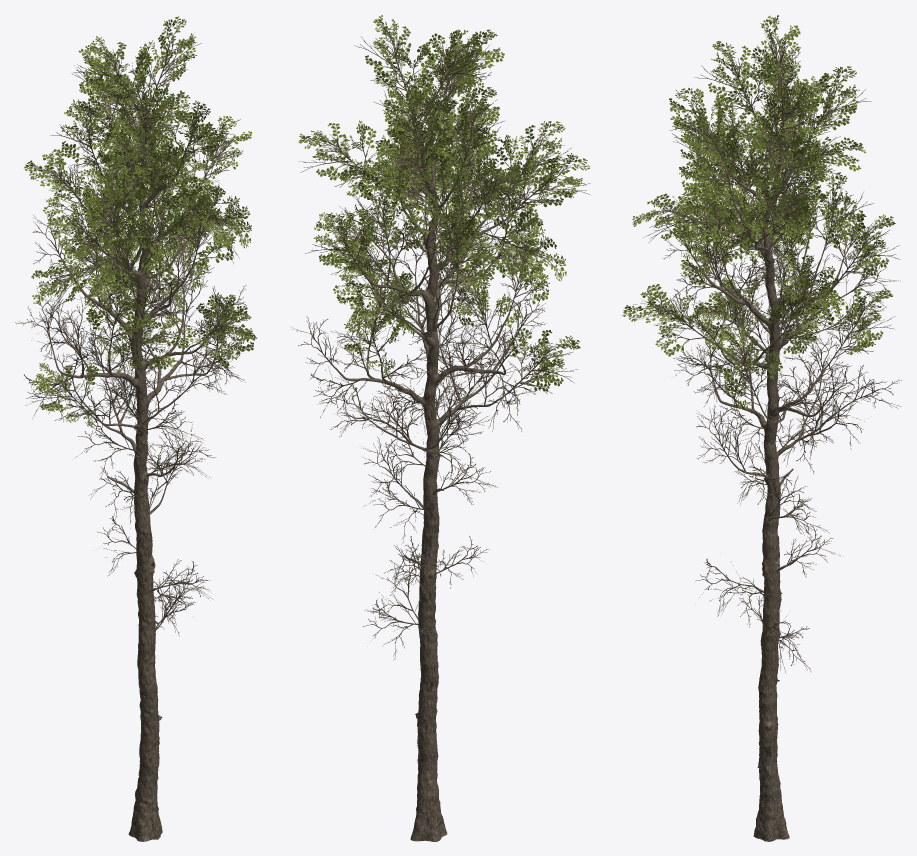
File: SM_BlackAlder_Forest_02.gltf
The picture shows the model from 3 angles, left to right: view 1: azimuth 30°, elevation 25°; view 2: azimuth 150°, elevation 25°; view 3: azimuth 270°, elevation 25°; orthographic projection. The views are drawn at different scales.
Parts seen in each view (by area): view 1: SM_BlackAlder_Forest_02; view 2: SM_BlackAlder_Forest_02; view 3: SM_BlackAlder_Forest_02.
Part boxes in pixels (bbox=[...]): SM_BlackAlder_Forest_02: bbox=[15, 16, 257, 841]; SM_BlackAlder_Forest_02: bbox=[292, 15, 590, 841]; SM_BlackAlder_Forest_02: bbox=[622, 15, 901, 841].
Bounding box in the file's own units: 6.33 × 19.84 × 6.37.
Materials: 3 (3 with a texture image).
